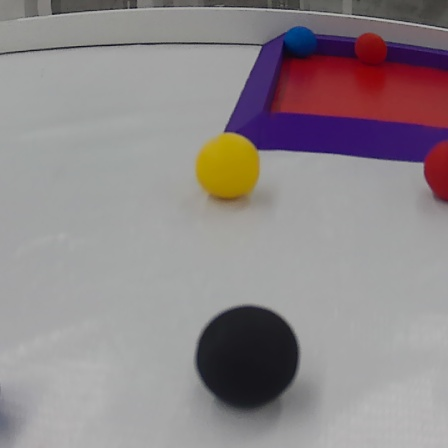black: (193, 301, 300, 412)
blue: (281, 27, 320, 59)
red: (351, 30, 388, 71)
red_aim: (217, 20, 448, 171)
yellow: (193, 131, 264, 207)
